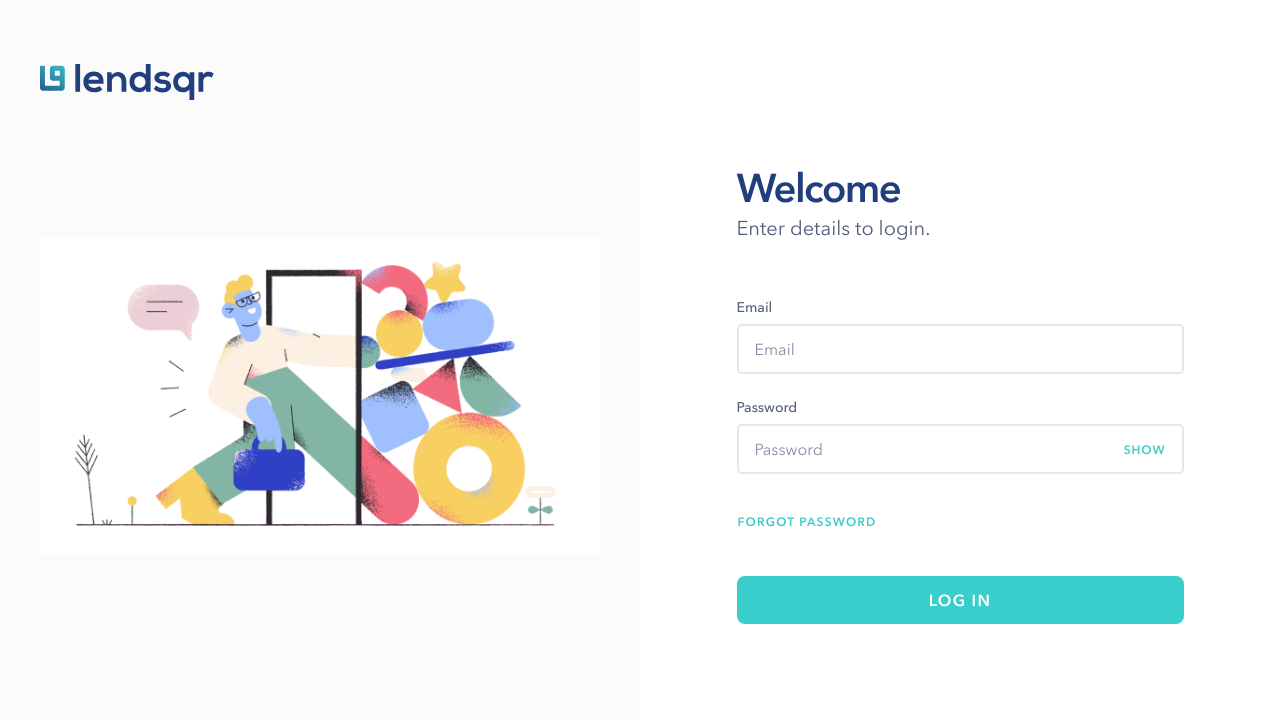
LoginPage › revalidates fields while editing after a failed submit
Click the button "Log In" at x=960, y=600, box x1=736 y1=576 x2=1184 y2=624
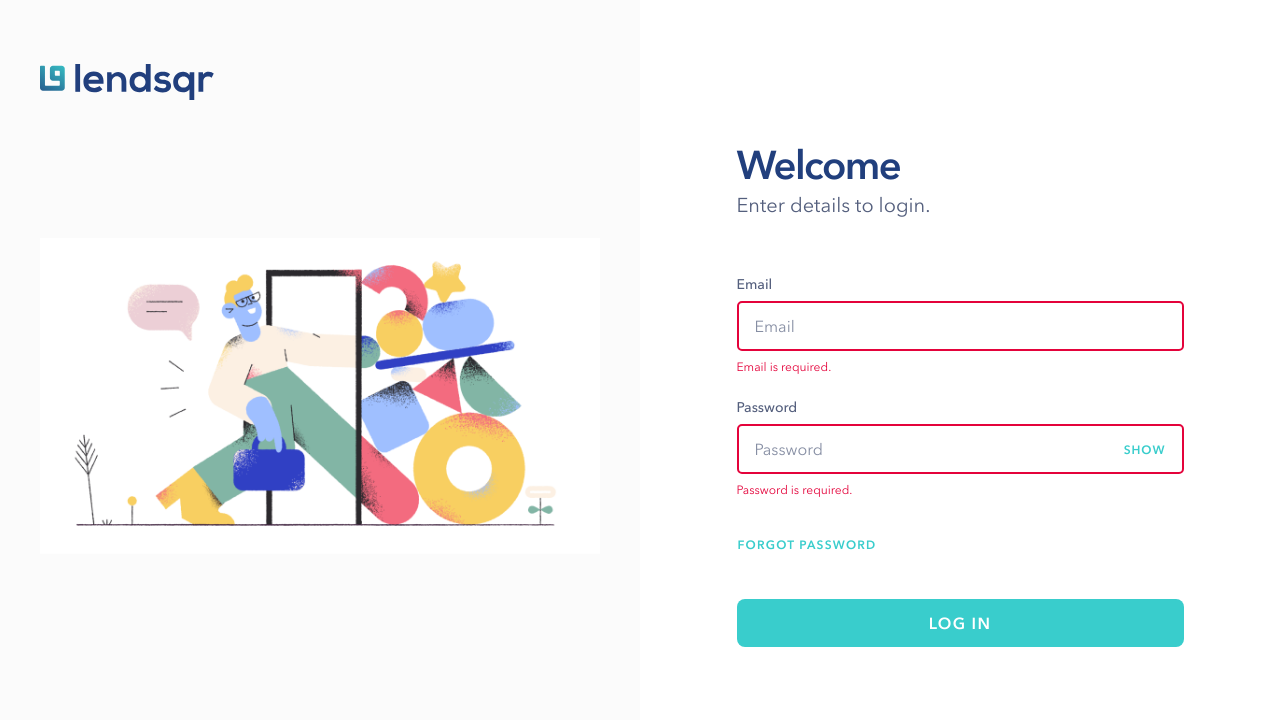
Check: the text "Email is required." is shown, box x1=736 y1=359 x2=831 y2=374
Type "bad-email" into the field labelled "Email" at x=960, y=326, box x1=754 y1=316 x2=1166 y2=336
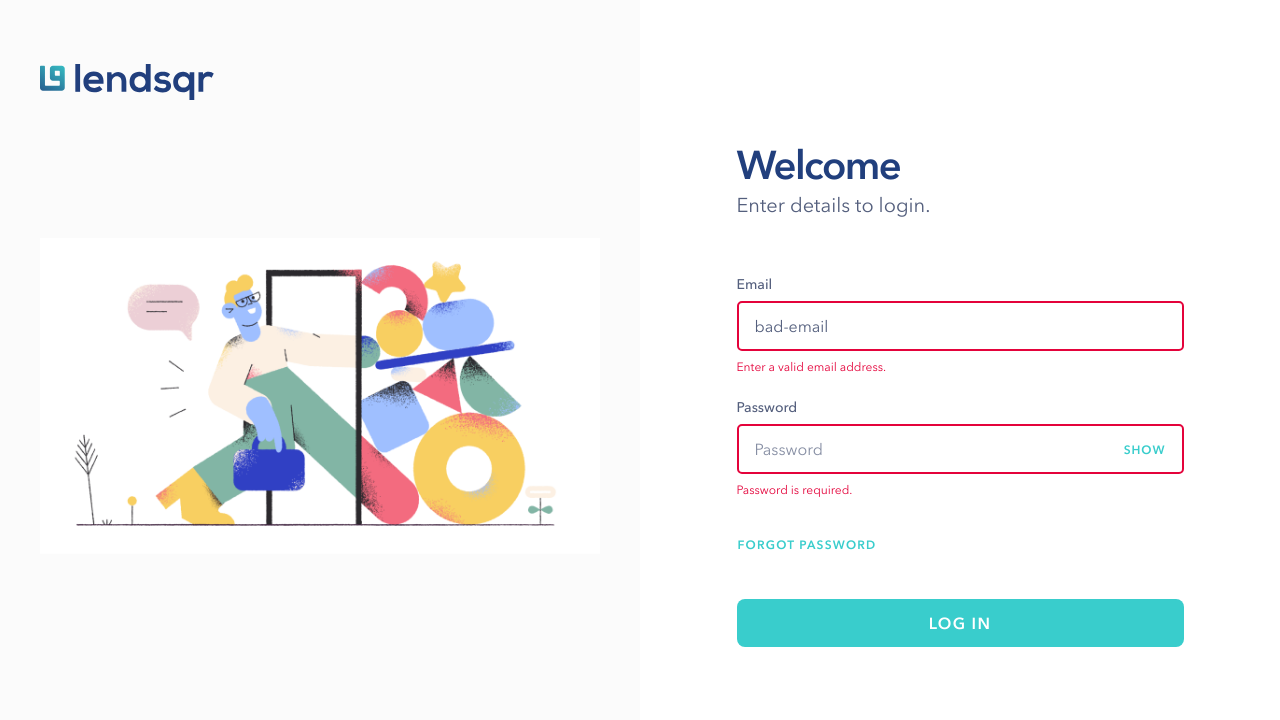
Check: the text "Enter a valid email address." is shown, box x1=736 y1=359 x2=886 y2=374
Replace the text in the field labelled "Email" with "user@lendsqr.com" at x=960, y=326, box x1=754 y1=316 x2=1166 y2=336
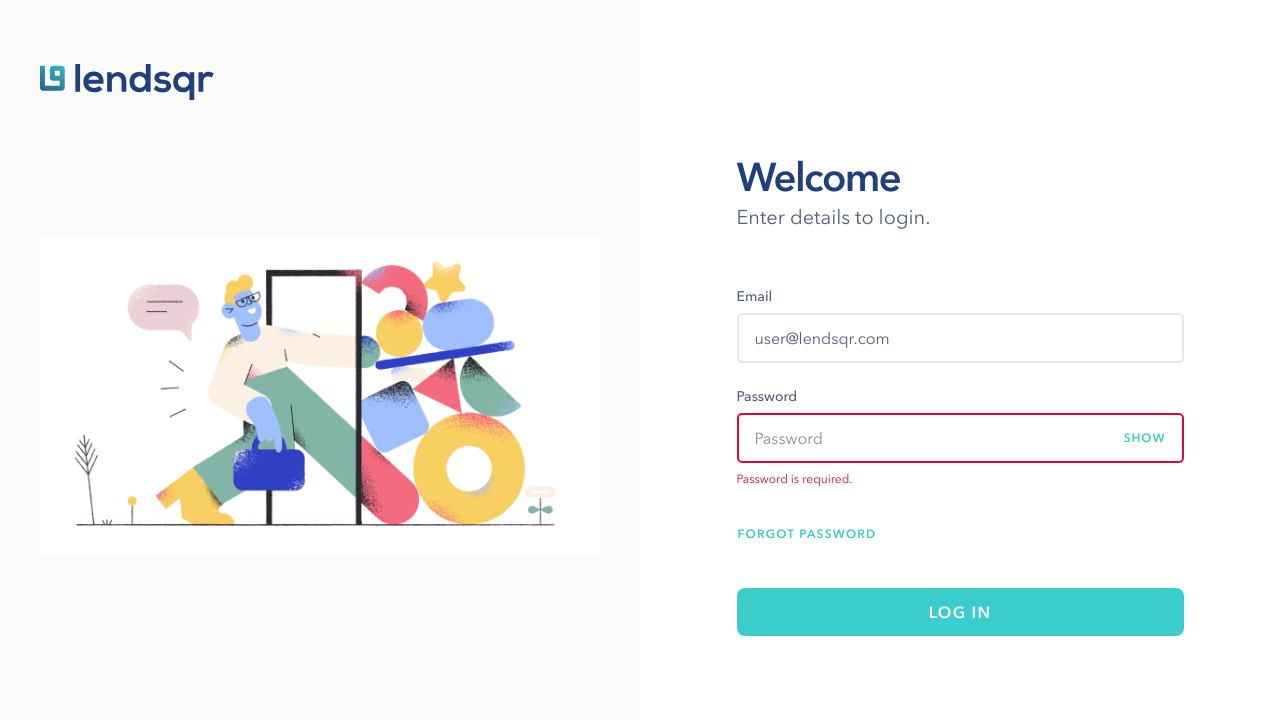
Check: the text "Enter a valid email address." is gone
